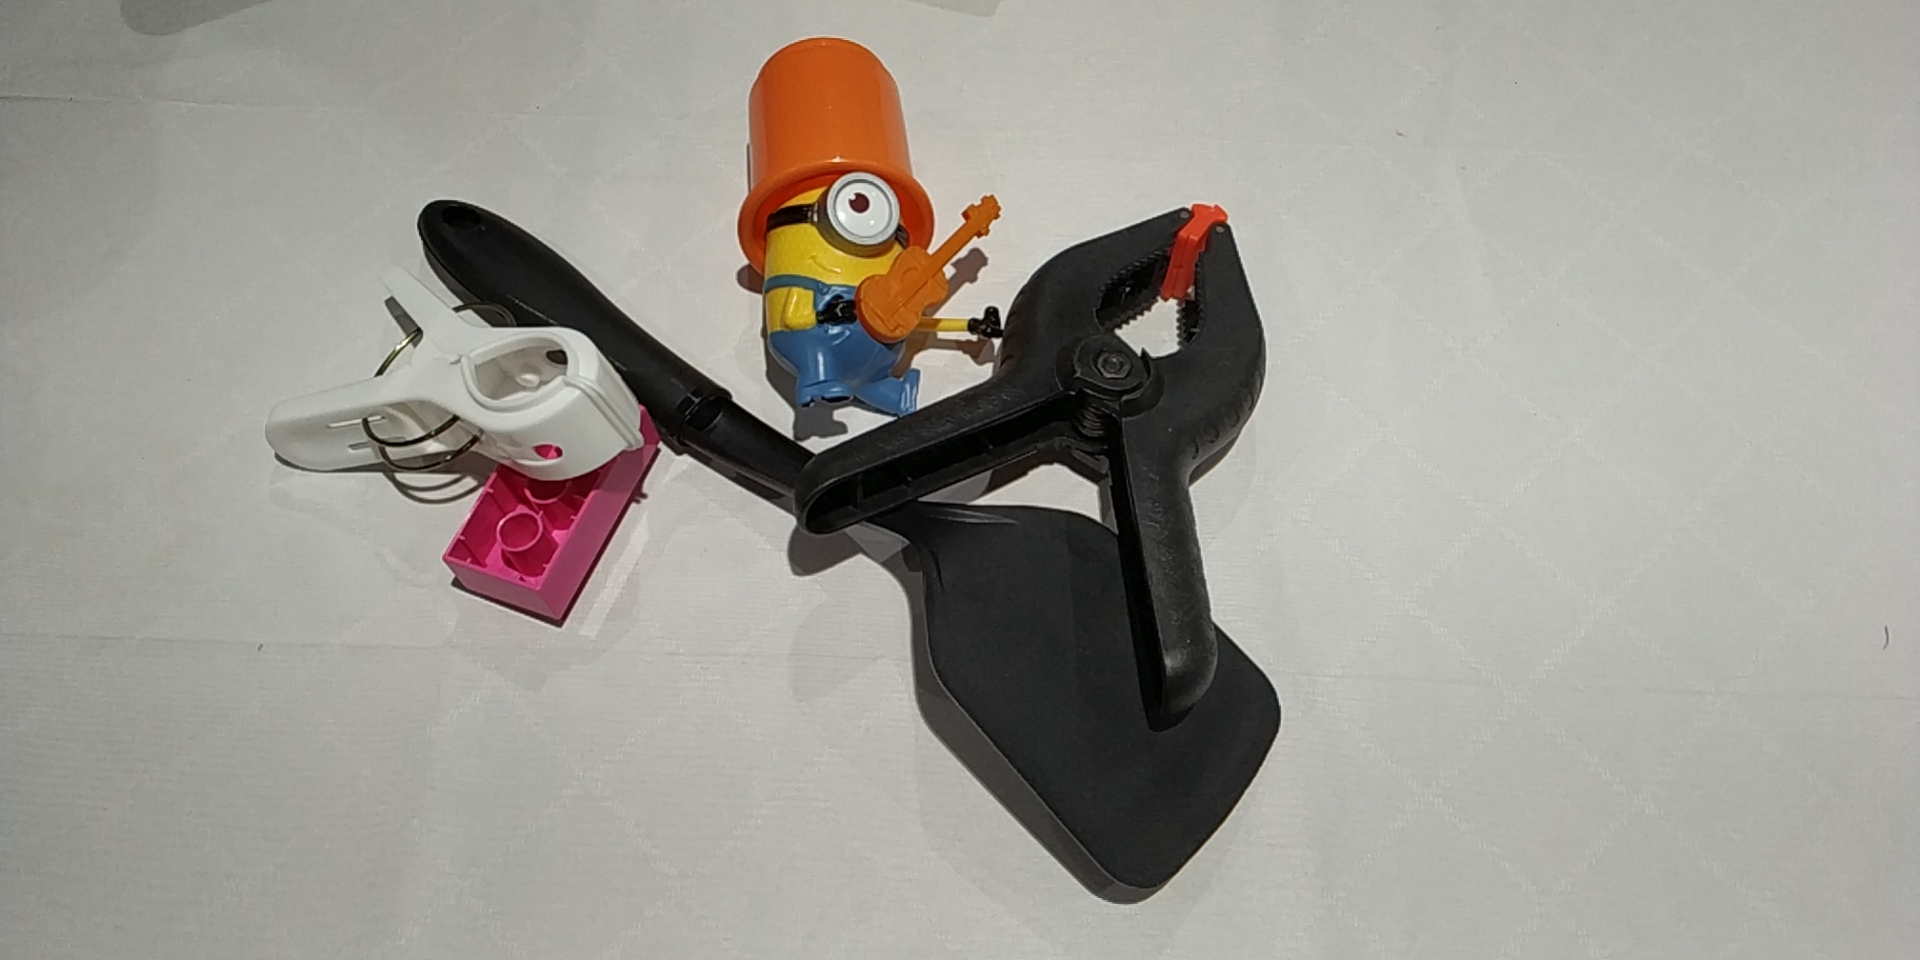box: (444, 400, 659, 624)
cup: (733, 34, 934, 278)
gripper: (800, 198, 1281, 716), (263, 264, 647, 480)
toy: (758, 171, 1005, 422)
turner: (416, 198, 1288, 900)
